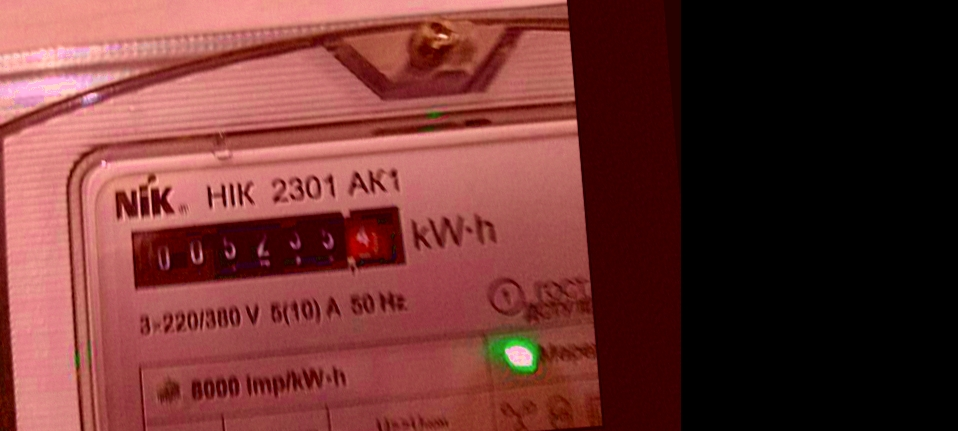0: (185, 234, 208, 269), (154, 241, 174, 273)
2: (251, 226, 275, 261)
3: (283, 221, 309, 256)
4: (351, 215, 376, 253)
5: (316, 217, 341, 255), (219, 229, 241, 264)
screen: (112, 192, 421, 304)
